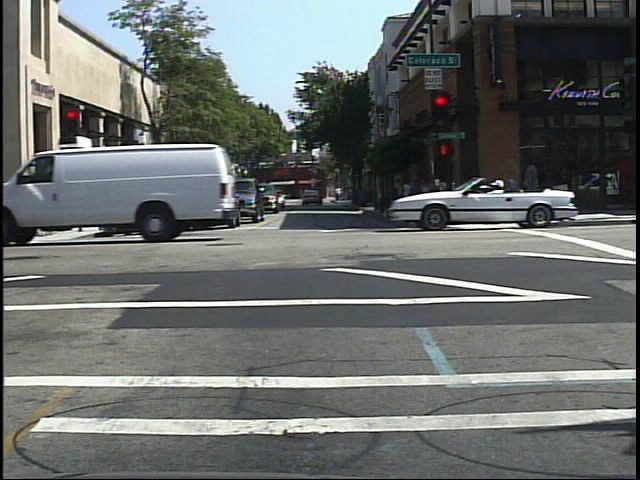person: (92, 180, 111, 229)
